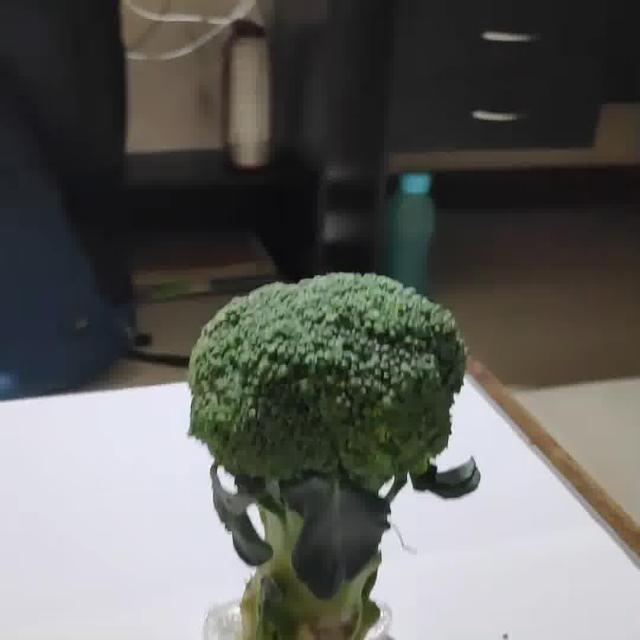Broccoli: (190, 274, 481, 639)
